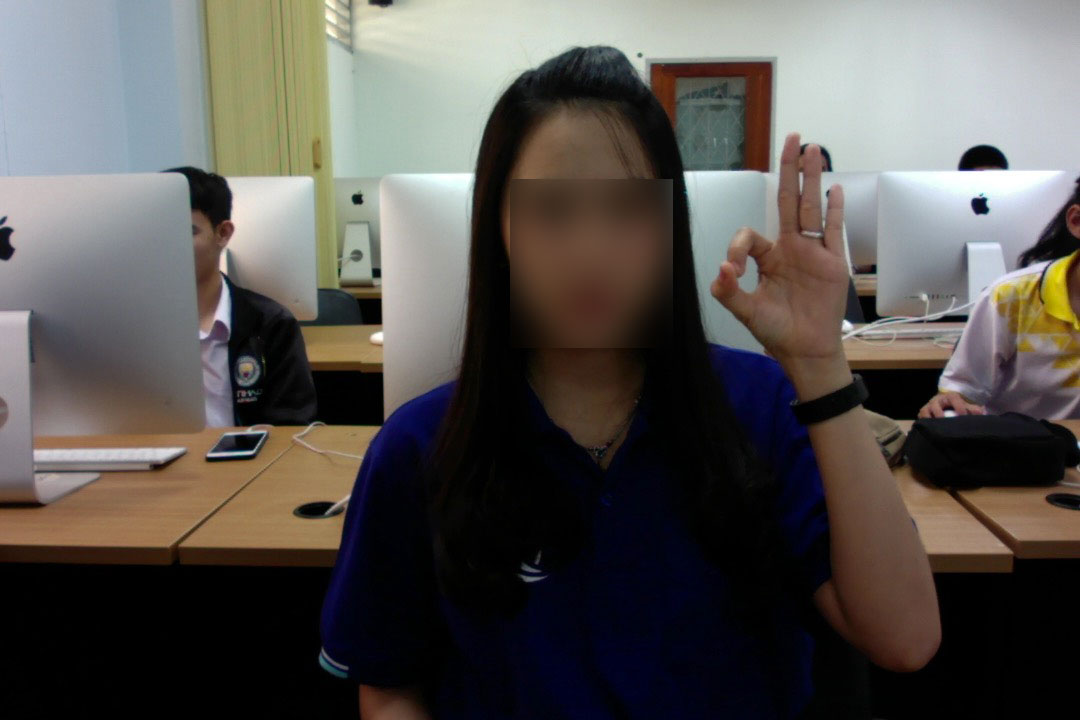for: (690, 112, 881, 408)
